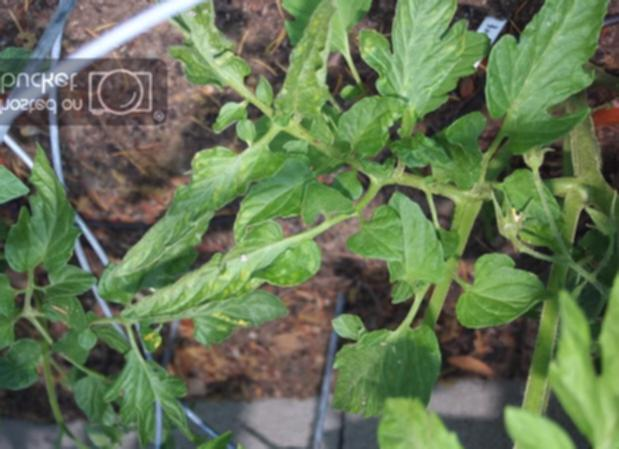Tomato leaf mosaic virus: (467, 0, 608, 153), (349, 0, 481, 156), (117, 144, 258, 278), (327, 309, 447, 423), (2, 142, 89, 282), (454, 249, 551, 327), (320, 95, 406, 167), (350, 207, 414, 266)
